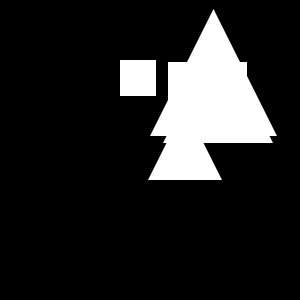circle: (168, 62, 247, 141), (120, 60, 156, 96)
triangle: (150, 9, 277, 136), (163, 33, 273, 143), (148, 106, 222, 180)
